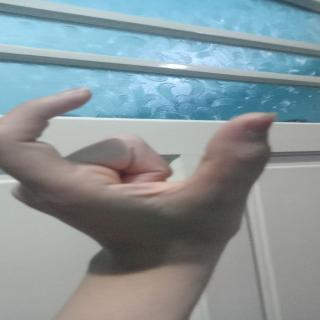NOON: (6, 86, 313, 232)
